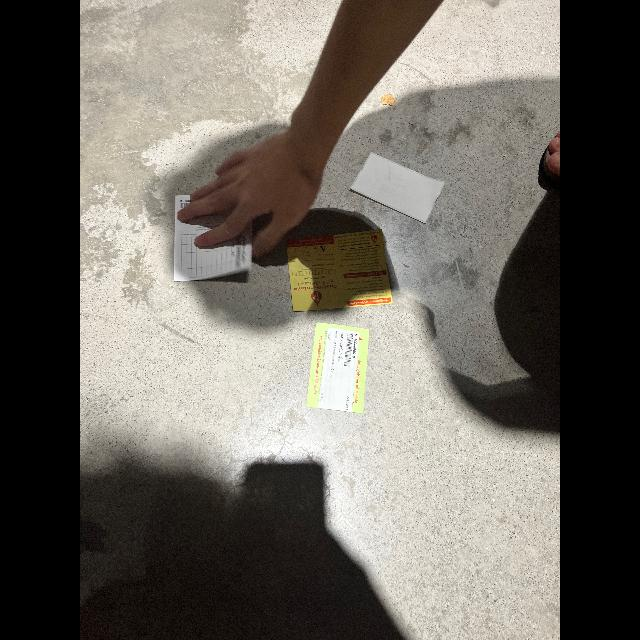scrap_paper: (272, 222, 410, 320), (168, 181, 262, 285), (299, 324, 381, 418), (344, 150, 448, 220)
